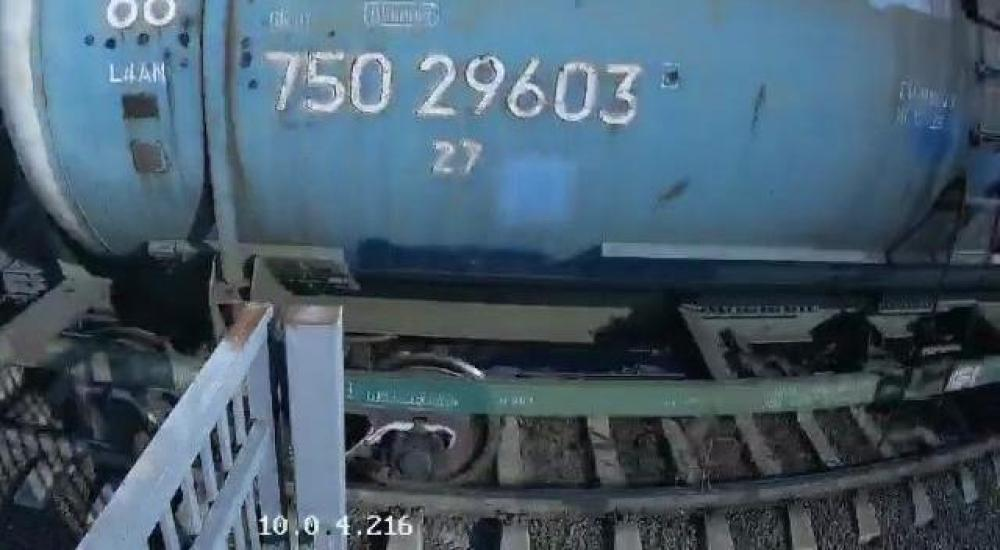Wagon-number: (262, 46, 645, 130)
